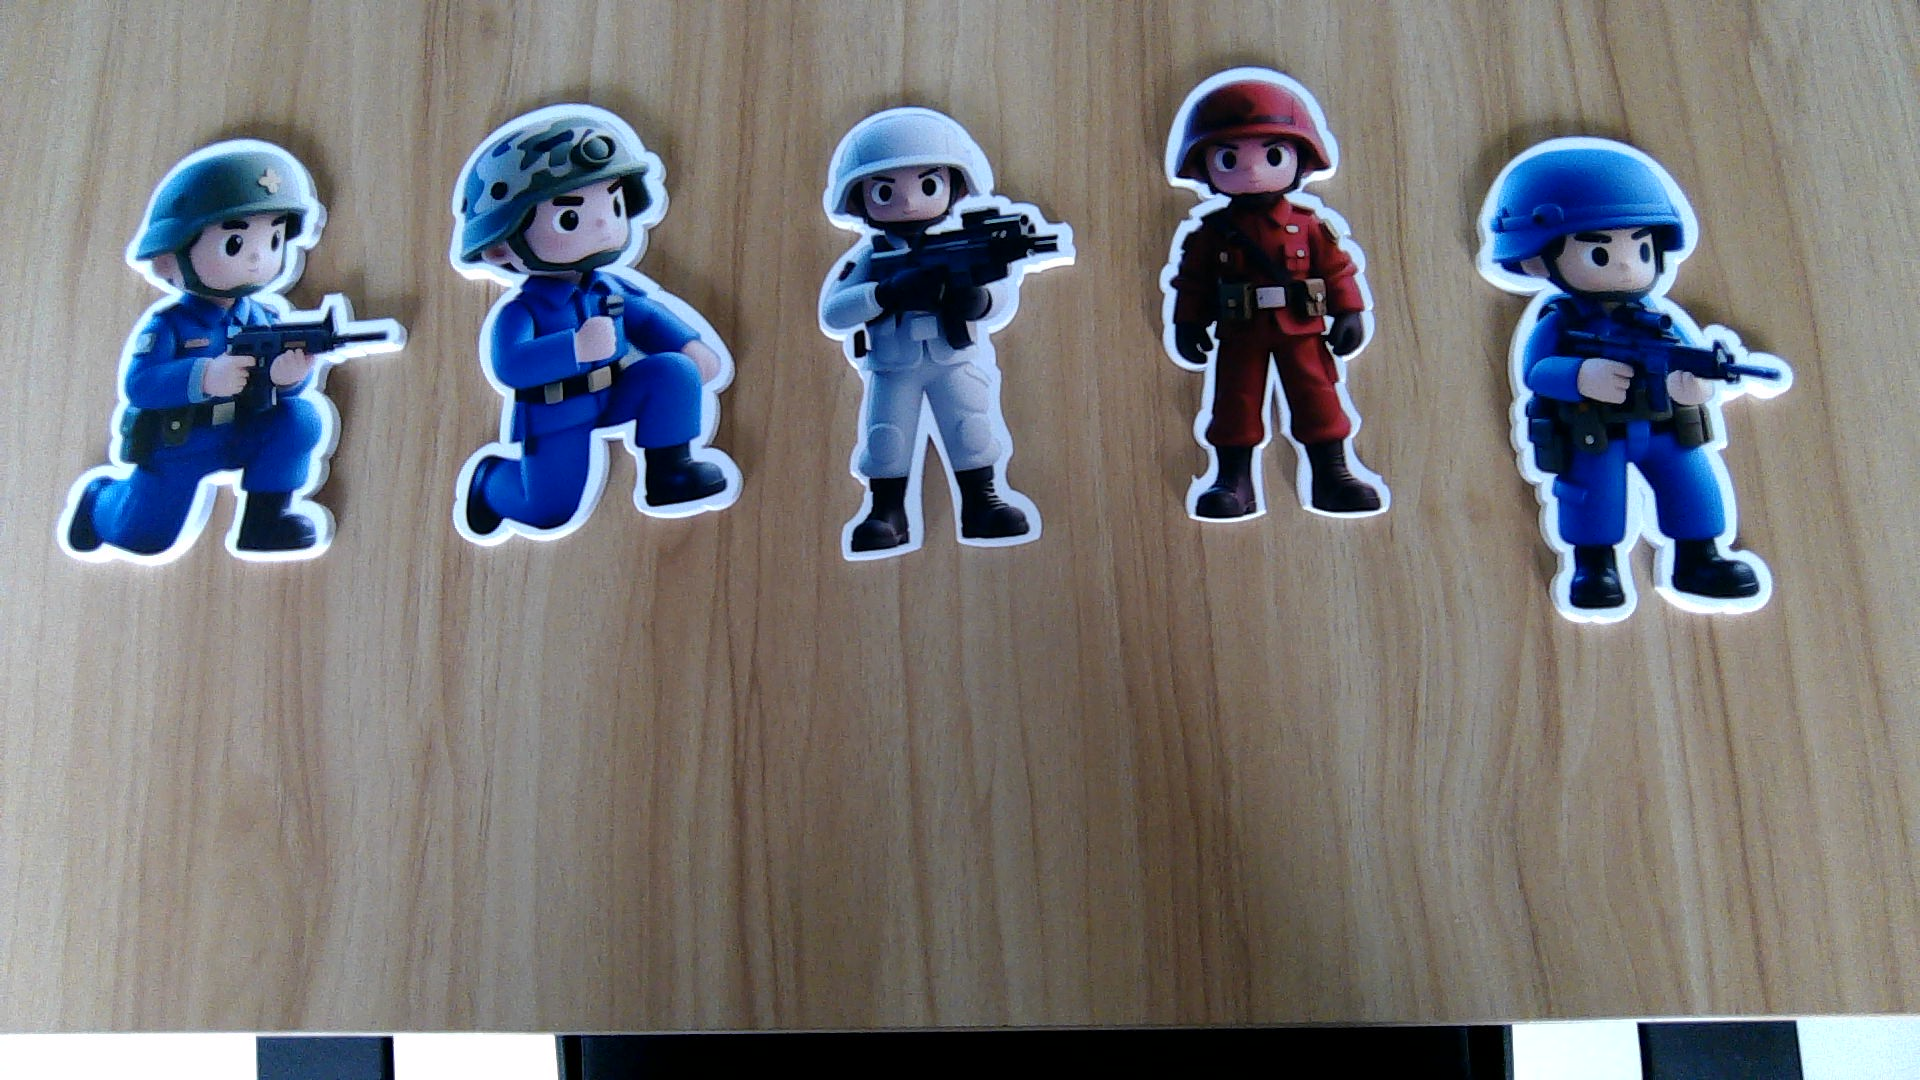人质: (812, 233, 1069, 564)
敌人1: (1160, 200, 1394, 527)
敌人2: (1502, 297, 1796, 630), (38, 301, 396, 570), (443, 276, 742, 543)
